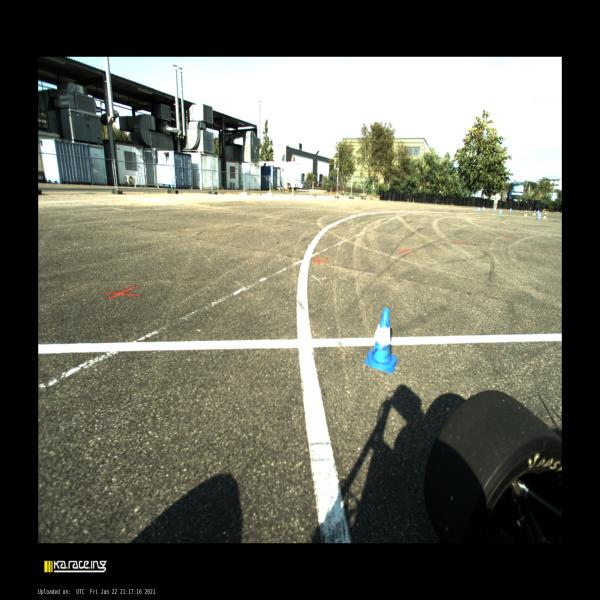blue_cone: (364, 308, 397, 373), (498, 209, 502, 215), (537, 214, 541, 219), (493, 206, 496, 212), (476, 207, 479, 212), (482, 206, 485, 211), (509, 208, 512, 212), (538, 209, 540, 214)
yellow_cone: (543, 212, 547, 219), (524, 210, 527, 216), (533, 210, 536, 215)
